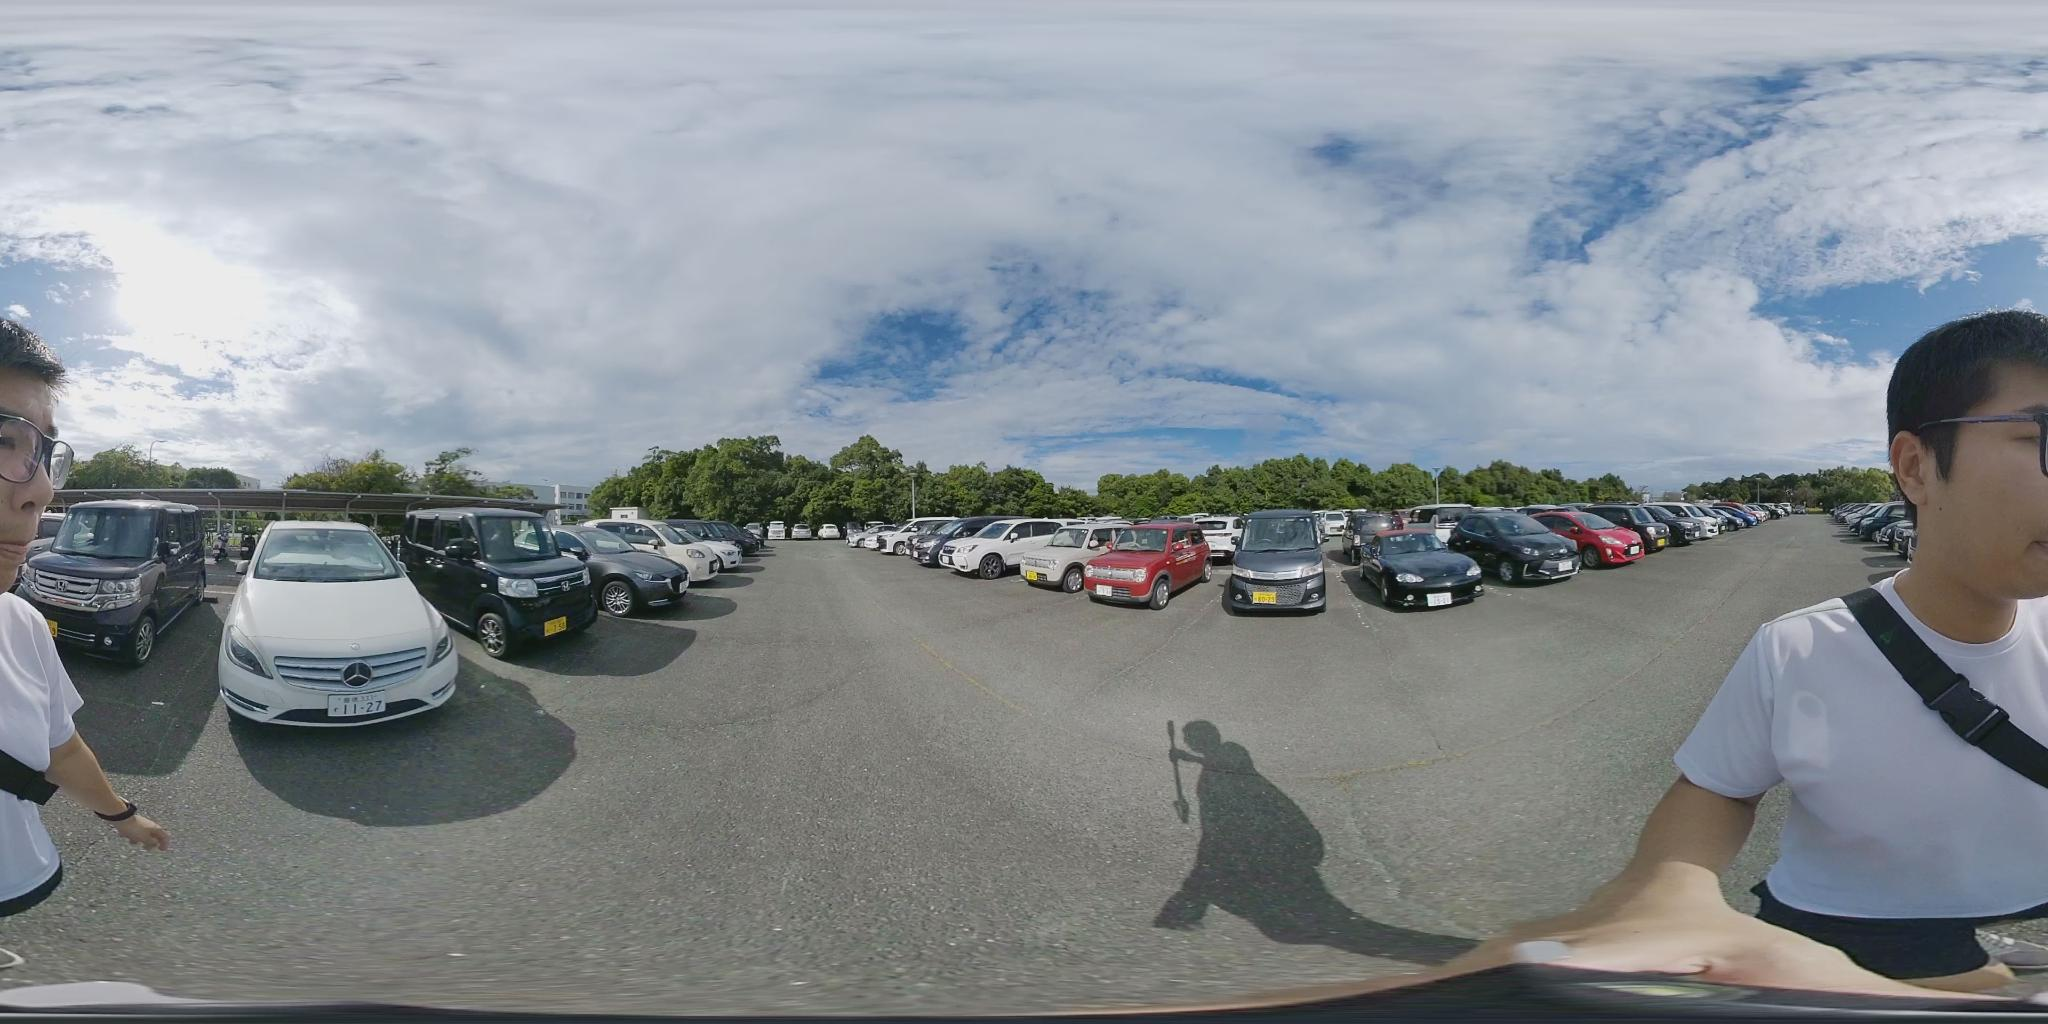car: (223, 519, 469, 728), (411, 509, 594, 649), (1405, 508, 1584, 583), (555, 525, 691, 611), (1336, 537, 1484, 614), (1080, 530, 1216, 610), (1226, 511, 1324, 615), (588, 520, 763, 576), (934, 521, 1083, 575), (1529, 508, 1650, 566), (1630, 507, 1715, 546), (903, 517, 970, 563), (1712, 503, 1762, 526)
